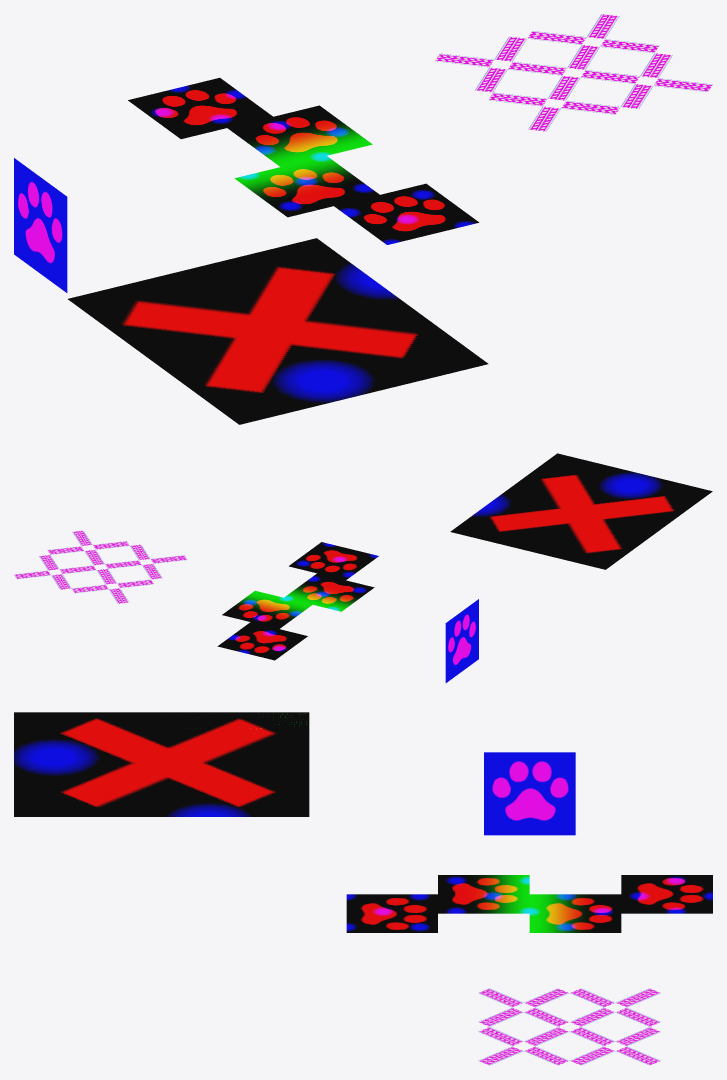
File: Mesh_HoloSign.fbx
3 views of the same model, one above another, from view 1: azimuth 30°, elevation 25°; view 2: azimuth 150°, elevation 25°; view 3: azimuth 270°, elevation 25° (orthographic). The views are drawn at different scales.
Visible parts, largest first — view 1: Holo_Sign_X, Holo_Walk, Holo_RoadClose, Holo_Paw; view 2: Holo_Sign_X, Holo_Walk, Holo_RoadClose, Holo_Paw; view 3: Holo_Sign_X, Holo_Walk, Holo_Paw, Holo_RoadClose.
Part boxes in pixels (<box>): Holo_Sign_X: <box>68,238,488,424</box>; Holo_Walk: <box>128,77,478,244</box>; Holo_RoadClose: <box>435,14,712,131</box>; Holo_Paw: <box>14,158,67,292</box>; Holo_Sign_X: <box>450,453,712,569</box>; Holo_Walk: <box>217,542,378,660</box>; Holo_RoadClose: <box>14,530,187,603</box>; Holo_Paw: <box>445,599,478,682</box>; Holo_Sign_X: <box>14,712,309,816</box>; Holo_Walk: <box>346,875,712,932</box>; Holo_Paw: <box>484,752,575,835</box>; Holo_RoadClose: <box>478,988,660,1065</box>.
Size of the model in its own units: 639 by 78.74 by 601.
Materials: 2 (2 with a texture image).
